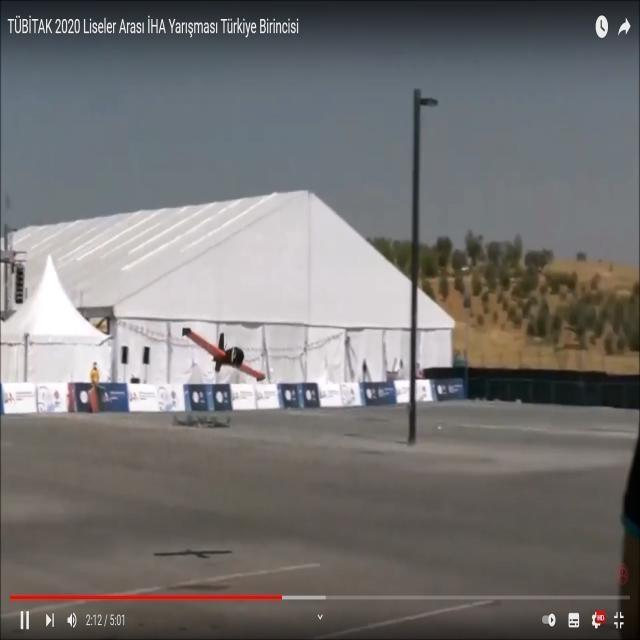Airplane: (183, 324, 270, 392)
